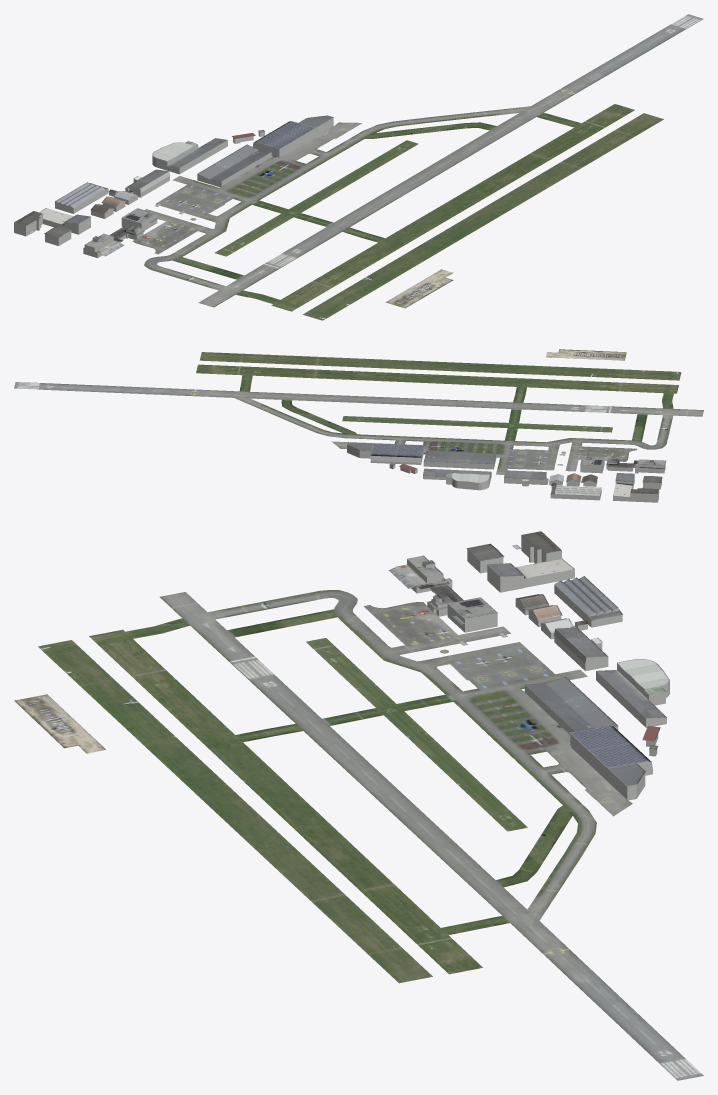
File: LSZG_Airport.glb
3 renders of one model, top to bottom at view 1: azimuth 30°, elevation 25°; view 2: azimuth 150°, elevation 25°; view 3: azimuth 270°, elevation 25°, orthographic. The views are drawn at different scales.
Visible parts, largest first — view 1: pavement_LSZG_pavement_5196_2451, pavement_LSZG_pavement_5196_2450, pavement_LSZG_pavement_5197_2451, building_cd2ba32d703bfae4, pavement_LSZG_pavement_5195_2451, building_21ea16597f00d6e9, building_57c19121172aefdd, pavement_LSZG_pavement_5195_2450, building_d45d1934ee3d50ee, building_4c4a42d11cbf41ab, building_b253f1ecb71728ad, building_5357baca6483c80f (+1 smaller); view 2: pavement_LSZG_pavement_5196_2451, pavement_LSZG_pavement_5196_2450, pavement_LSZG_pavement_5197_2451, building_cd2ba32d703bfae4, pavement_LSZG_pavement_5195_2451, building_21ea16597f00d6e9, pavement_LSZG_pavement_5195_2450, building_d45d1934ee3d50ee, building_b253f1ecb71728ad, building_57c19121172aefdd, building_4c4a42d11cbf41ab, building_5357baca6483c80f (+2 smaller); view 3: pavement_LSZG_pavement_5196_2451, pavement_LSZG_pavement_5196_2450, pavement_LSZG_pavement_5197_2451, building_cd2ba32d703bfae4, pavement_LSZG_pavement_5195_2451, building_21ea16597f00d6e9, pavement_LSZG_pavement_5195_2450, building_d45d1934ee3d50ee, building_4c4a42d11cbf41ab, building_57c19121172aefdd, building_5357baca6483c80f, building_b253f1ecb71728ad (+2 smaller).
Boxes of the visible parts, x1,y1,x2,y2 form: pavement_LSZG_pavement_5196_2451: [155, 109, 582, 256]; pavement_LSZG_pavement_5196_2450: [245, 191, 541, 320]; pavement_LSZG_pavement_5197_2451: [503, 14, 703, 167]; building_cd2ba32d703bfae4: [167, 121, 315, 181]; pavement_LSZG_pavement_5195_2451: [132, 209, 222, 279]; building_21ea16597f00d6e9: [54, 142, 193, 208]; building_57c19121172aefdd: [167, 128, 315, 187]; pavement_LSZG_pavement_5195_2450: [182, 269, 292, 311]; building_d45d1934ee3d50ee: [14, 208, 144, 238]; building_4c4a42d11cbf41ab: [14, 214, 143, 245]; building_b253f1ecb71728ad: [55, 146, 194, 213]; building_5357baca6483c80f: [91, 191, 185, 223]; pavement_LSZG_pavement_5196_2451: [251, 356, 612, 474]; pavement_LSZG_pavement_5196_2450: [373, 349, 681, 413]; pavement_LSZG_pavement_5197_2451: [14, 352, 315, 404]; building_cd2ba32d703bfae4: [370, 443, 496, 478]; pavement_LSZG_pavement_5195_2451: [565, 423, 669, 471]; building_21ea16597f00d6e9: [451, 470, 601, 495]; pavement_LSZG_pavement_5195_2450: [635, 385, 703, 431]; building_d45d1934ee3d50ee: [606, 455, 662, 497]; building_b253f1ecb71728ad: [451, 472, 601, 500]; building_57c19121172aefdd: [370, 447, 496, 484]; building_4c4a42d11cbf41ab: [606, 457, 661, 502]; building_5357baca6483c80f: [549, 454, 604, 482]; pavement_LSZG_pavement_5196_2451: [270, 638, 632, 902]; pavement_LSZG_pavement_5196_2450: [14, 638, 269, 862]; pavement_LSZG_pavement_5197_2451: [313, 902, 703, 1080]; building_cd2ba32d703bfae4: [525, 670, 666, 770]; pavement_LSZG_pavement_5195_2451: [270, 590, 510, 637]; building_21ea16597f00d6e9: [554, 576, 669, 689]; pavement_LSZG_pavement_5195_2450: [89, 592, 269, 637]; building_d45d1934ee3d50ee: [427, 531, 574, 610]; building_4c4a42d11cbf41ab: [427, 535, 574, 616]; building_57c19121172aefdd: [524, 671, 666, 781]; building_5357baca6483c80f: [448, 594, 573, 645]; building_b253f1ecb71728ad: [554, 585, 669, 697].
Bounding box in the file's own units: 1012 × 15.53 × 551.
Materials: 3 (2 with a texture image).
